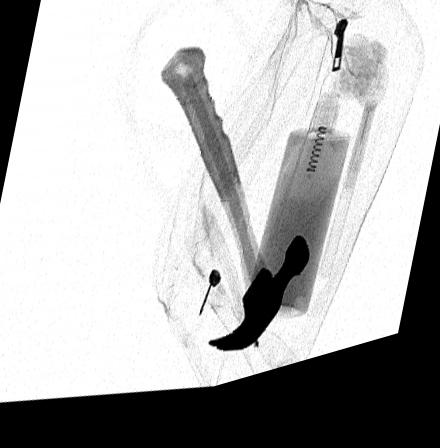Hammer: (160, 59, 308, 363)
